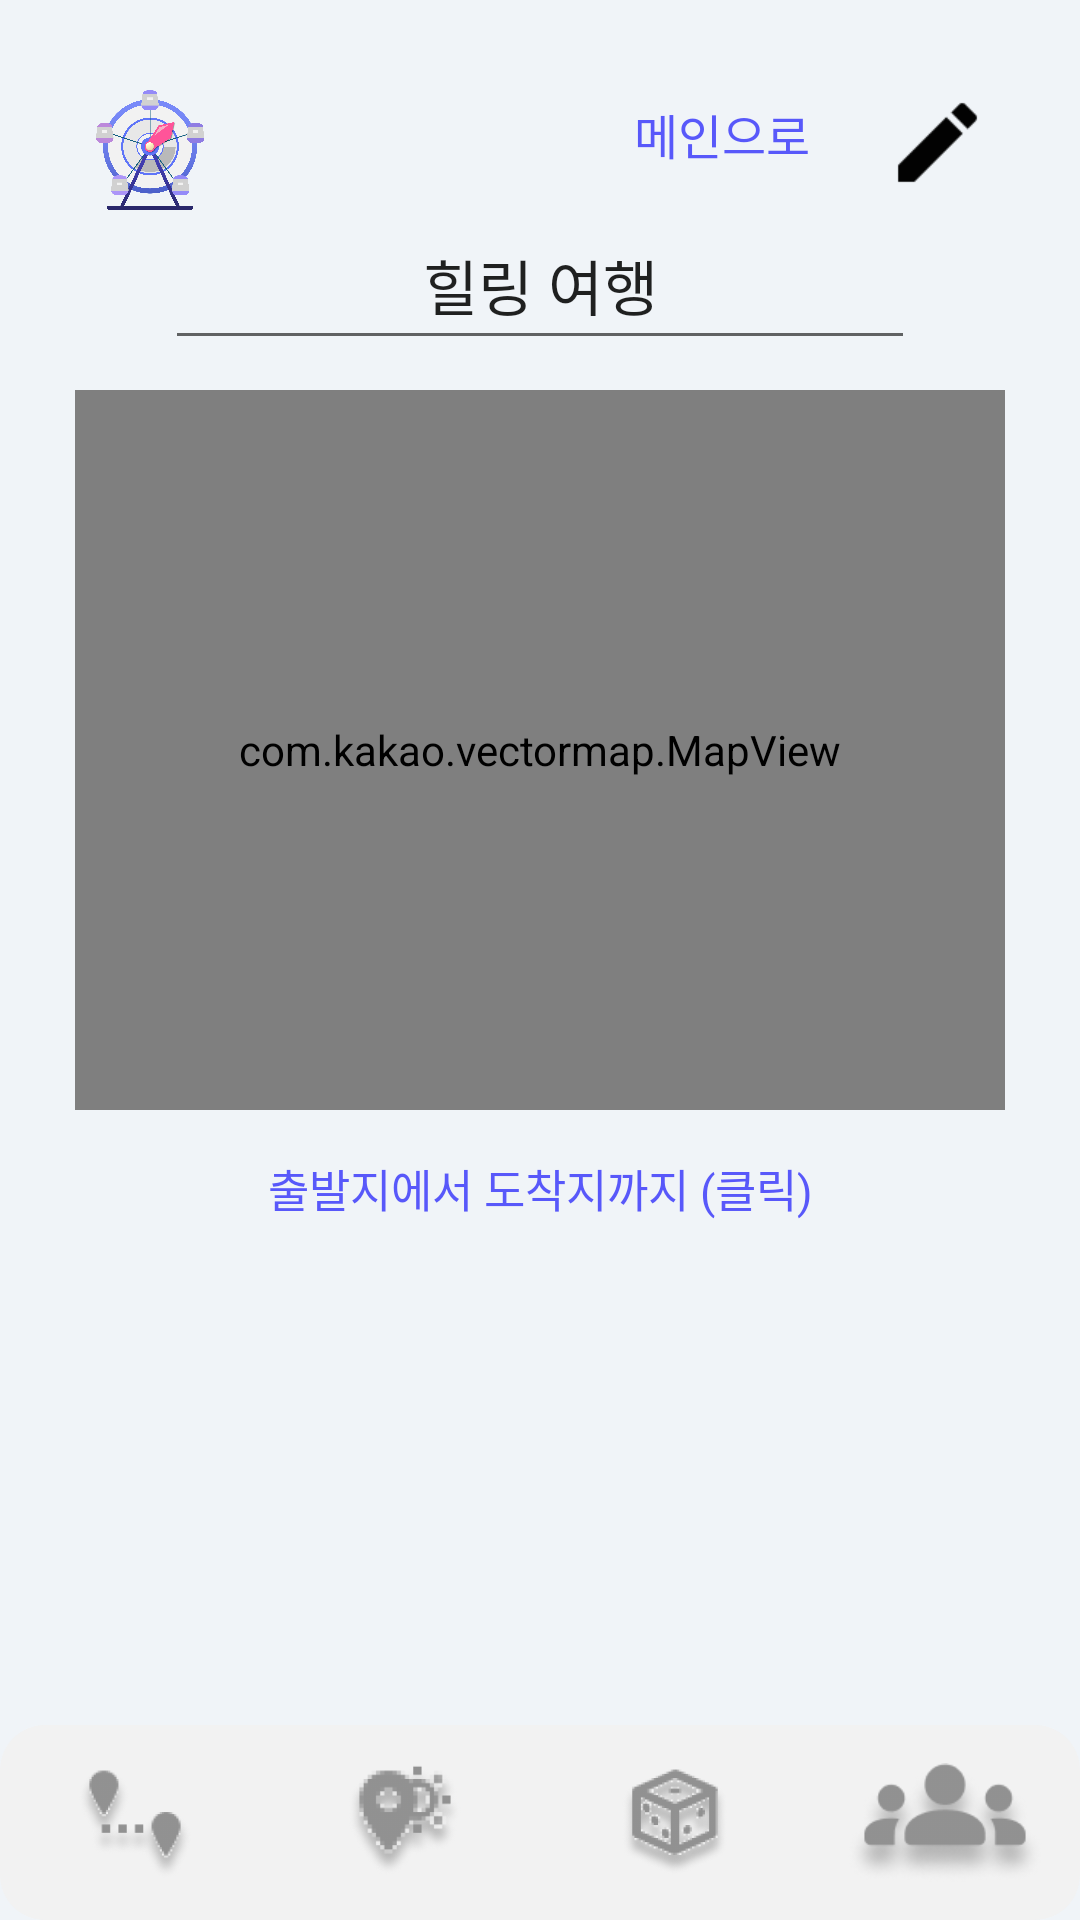

Where to tap for icons on this 1080px x 1920px app screen, as (x=x, y=y):
edit: (x=937, y=142)
group off: (x=945, y=1814)
random off: (x=675, y=1817)
weather off: (x=404, y=1815)
